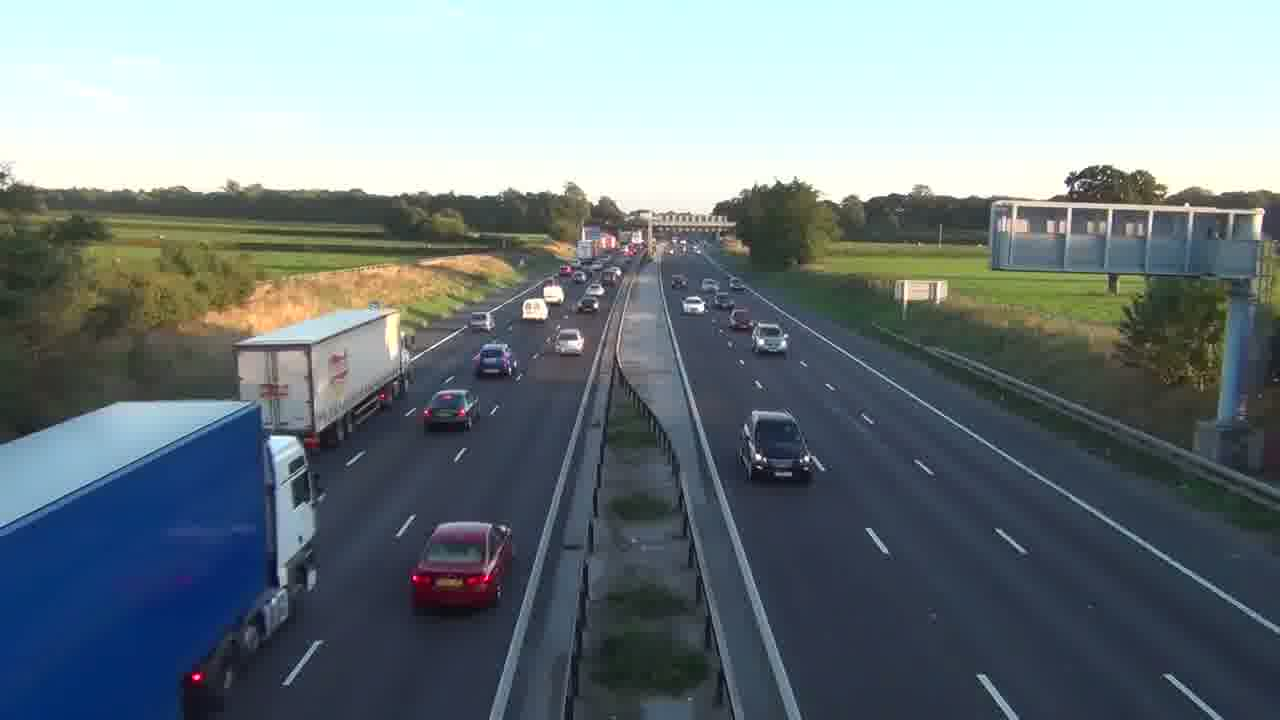car: (409, 520, 514, 610), (737, 408, 818, 481), (422, 388, 481, 432), (472, 341, 513, 377), (751, 322, 789, 356), (555, 328, 585, 356), (683, 295, 706, 313)
truck: (1, 399, 323, 712), (232, 307, 403, 450)
